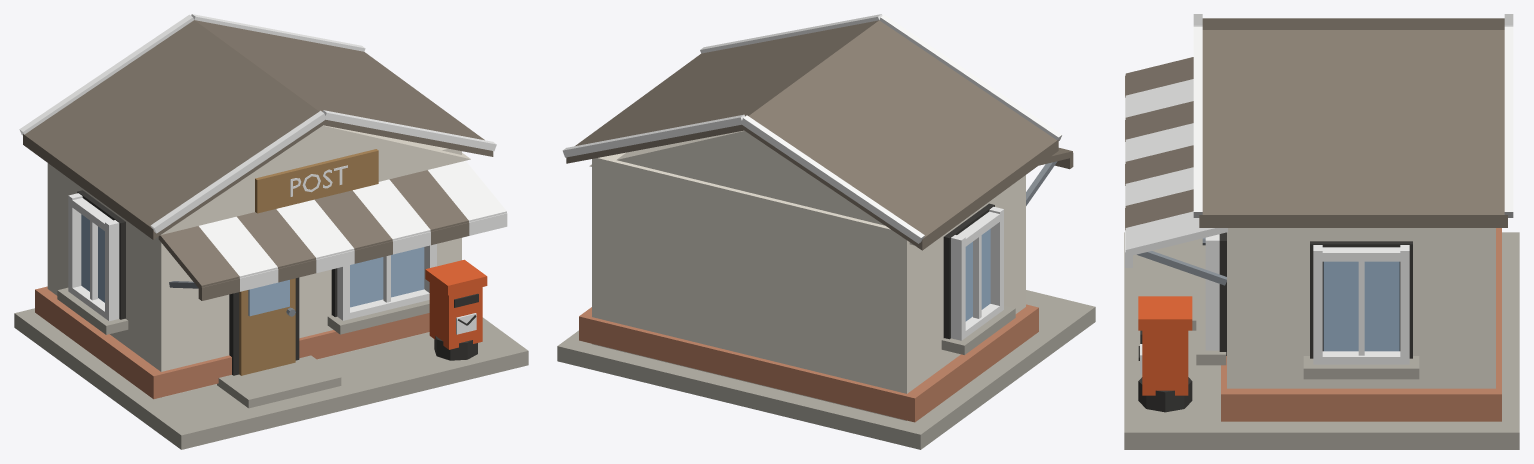
The model's file is postoffice.glb.
The picture shows the model from 3 angles, left to right: view 1: azimuth 30°, elevation 25°; view 2: azimuth 150°, elevation 25°; view 3: azimuth 270°, elevation 25°; orthographic projection. The views are drawn at different scales.
Visible parts, largest first — view 1: postoffice_structure; view 2: postoffice_structure; view 3: postoffice_structure.
Part boxes in pixels (x1=…): postoffice_structure: x1=14, y1=14, x2=528, y2=449; postoffice_structure: x1=557, y1=14, x2=1095, y2=449; postoffice_structure: x1=1124, y1=14, x2=1519, y2=449.
Bounding box in the file's own units: 6 × 4.51 × 5.
